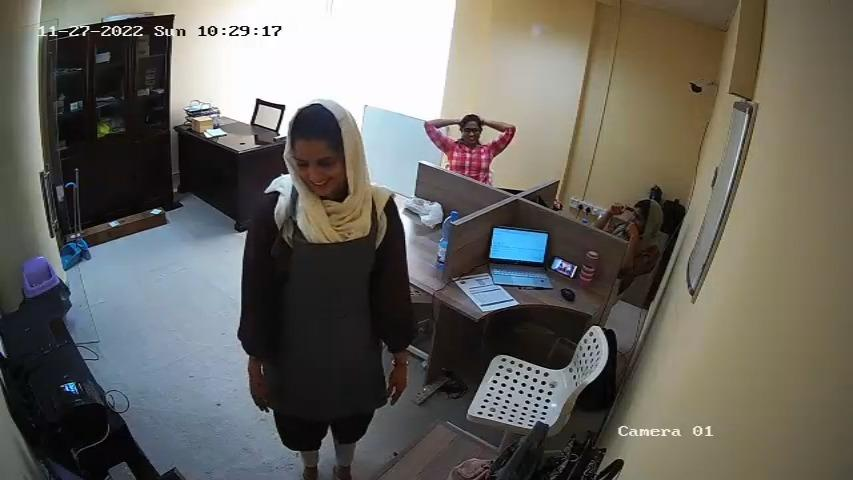apron: (280, 197, 380, 391)
